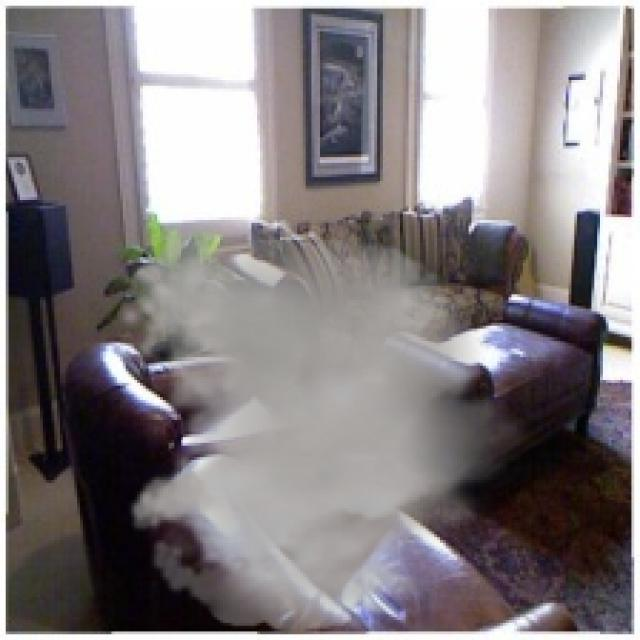smoke: (117, 223, 537, 631)
